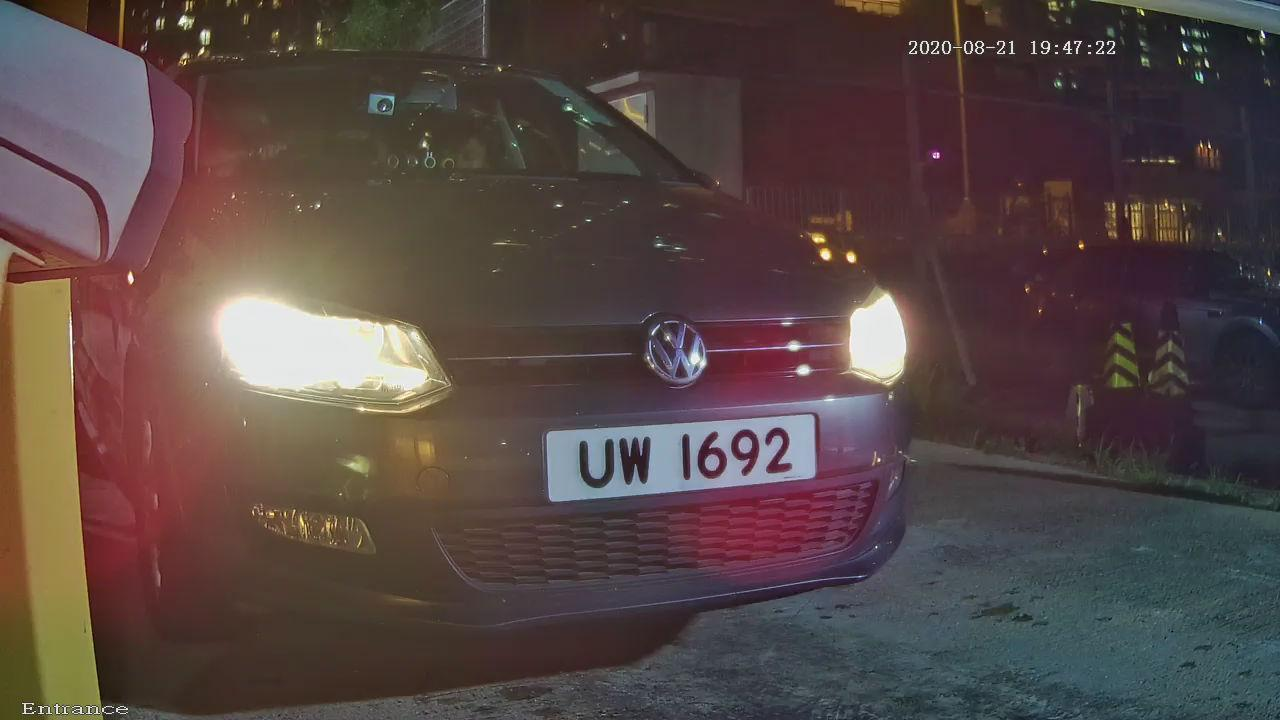Car: (1, 29, 1046, 685)
License Plate: (532, 406, 829, 505)
